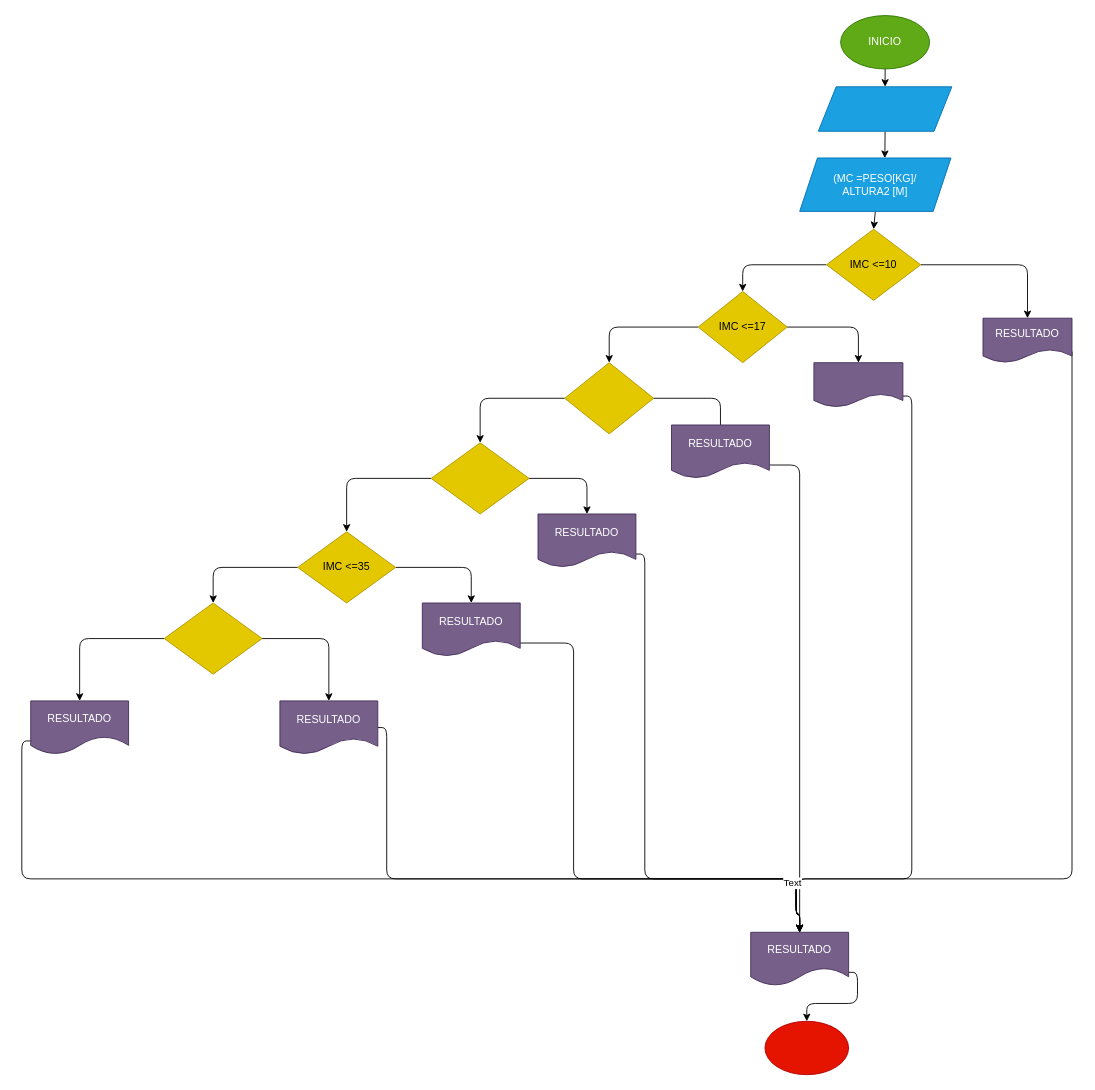
Some shapes in this 1095 by 1090 pixel diagram are drawn without their labels. Here are the shapes that lost their labels. From the top down, the centre of each, then its label:
At (x=884, y=108): "PESO ALTURA".
At (x=609, y=398): "IMC <=18".
At (x=858, y=384): "RESULTAOO".
At (x=479, y=478): "IMC <=3".
At (x=212, y=638): "IMC <=40".
At (x=806, y=1047): "FIN".
